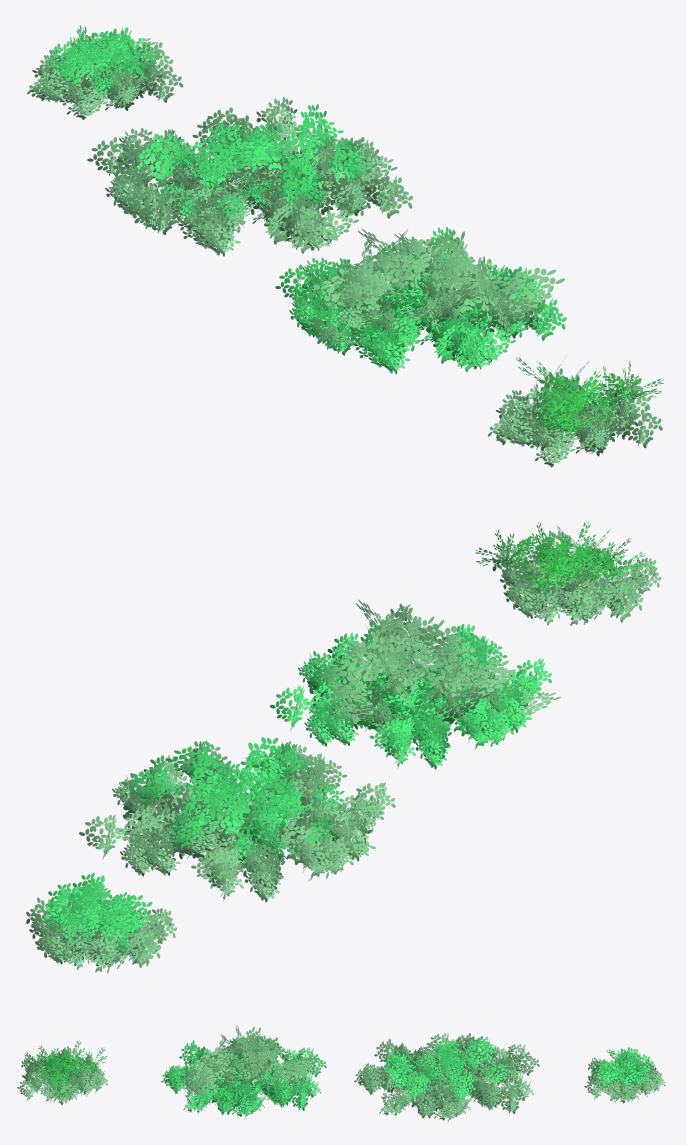
File: bush-kit.glb
3 renders of one model, top to bottom at view 1: azimuth 30°, elevation 25°; view 2: azimuth 150°, elevation 25°; view 3: azimuth 270°, elevation 25°, orthographic. The views are drawn at different scales.
Parts seen in each view (by area): view 1: bush02_jabami_mesh, bush03_jabami_mesh, bush04_jabami_mesh, bush01_jabami_mesh; view 2: bush02_jabami_mesh, bush03_jabami_mesh, bush04_jabami_mesh, bush01_jabami_mesh; view 3: bush02_jabami_mesh, bush03_jabami_mesh, bush04_jabami_mesh, bush01_jabami_mesh.
Boxes of the visible parts, x1=… form: bush02_jabami_mesh: x1=87, y1=97, x2=412, y2=256; bush03_jabami_mesh: x1=275, y1=227, x2=566, y2=374; bush04_jabami_mesh: x1=488, y1=357, x2=663, y2=467; bush01_jabami_mesh: x1=27, y1=25, x2=183, y2=119; bush02_jabami_mesh: x1=79, y1=737, x2=395, y2=902; bush03_jabami_mesh: x1=270, y1=599, x2=560, y2=769; bush04_jabami_mesh: x1=475, y1=522, x2=661, y2=625; bush01_jabami_mesh: x1=26, y1=873, x2=176, y2=973; bush02_jabami_mesh: x1=354, y1=1033, x2=539, y2=1121; bush03_jabami_mesh: x1=161, y1=1025, x2=326, y2=1117; bush04_jabami_mesh: x1=17, y1=1040, x2=107, y2=1105; bush01_jabami_mesh: x1=584, y1=1047, x2=665, y2=1103.
Size of the model in its own units: 6.17 by 2.27 by 21.39.
3 materials, 3 textured.
